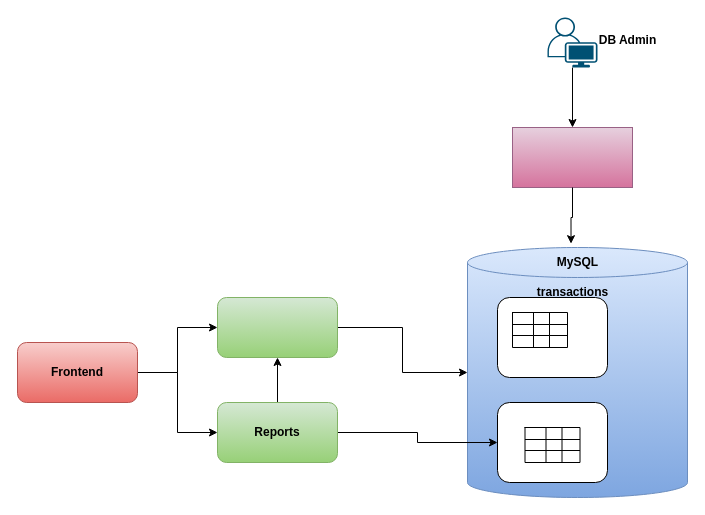
This 705x515 diagram has some shape labels left out. The shapes that lost their labels are listed below. From the top down, each one's box as (x1, y1, x2, y2) in pixels, then its label:
(512, 126, 632, 188): MySQL Client Server
(216, 296, 338, 358): Backend
